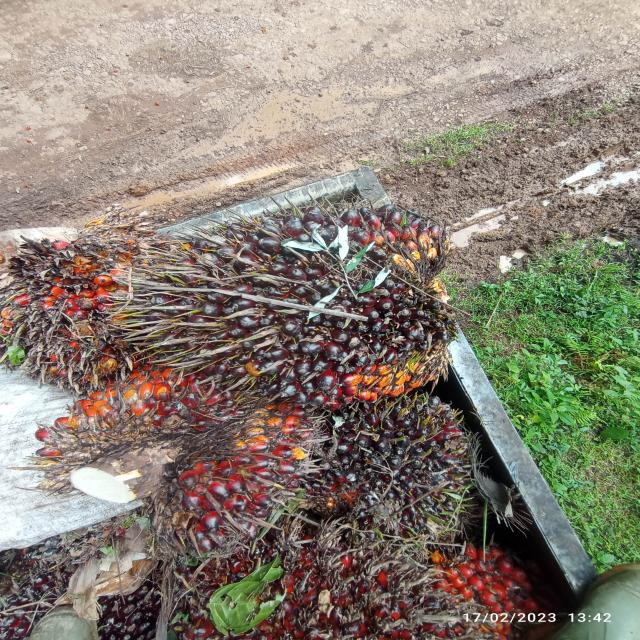fraksi 00: (168, 187, 488, 423), (315, 377, 485, 555)
fraksi 3: (31, 352, 311, 562)
fraksi 4: (0, 214, 165, 382)
